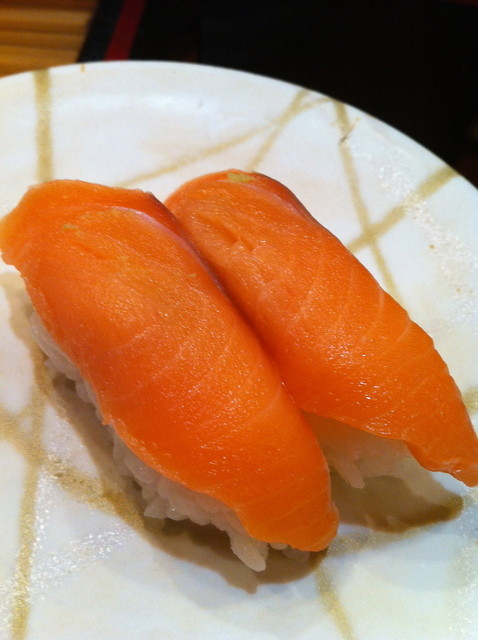salmon: (20, 181, 341, 569), (181, 160, 478, 478)
